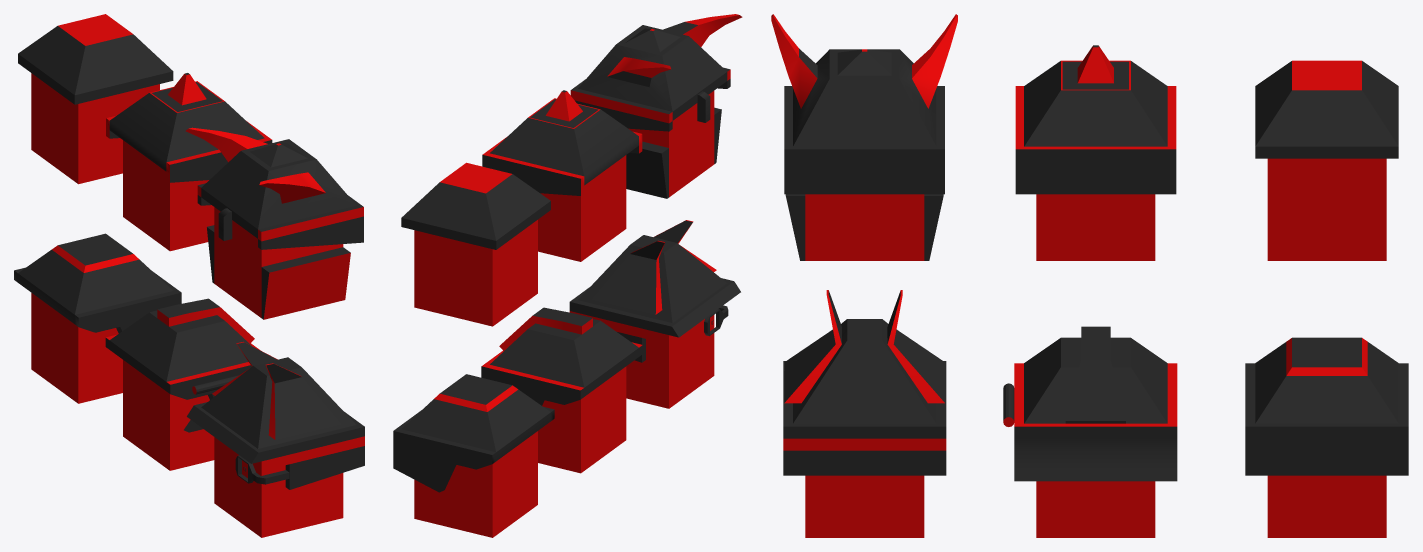
The model's file is enemy_GRP.fbx.
The picture shows the model from 3 angles, left to right: view 1: azimuth 30°, elevation 25°; view 2: azimuth 150°, elevation 25°; view 3: azimuth 270°, elevation 25°; orthographic projection. The views are drawn at different scales.
Visible parts, largest first — view 1: brute, heavy, infantry, scout, assault, swordman; view 2: infantry, scout, brute, heavy, assault, swordman; view 3: brute, heavy, assault, infantry, swordman, scout.
Part boxes in pixels (x1,y1,x2,y2): brute: (185, 127, 363, 319); heavy: (187, 341, 364, 537); infantry: (14, 233, 181, 403); scout: (18, 14, 173, 184); assault: (105, 298, 259, 470); swordman: (106, 73, 272, 251); infantry: (393, 374, 554, 537); scout: (401, 162, 550, 326); brute: (570, 14, 742, 198); heavy: (569, 220, 740, 408); assault: (481, 307, 642, 473); swordman: (482, 90, 642, 261); brute: (771, 14, 957, 260); heavy: (783, 290, 946, 537); assault: (1003, 326, 1177, 537); infantry: (1245, 337, 1408, 537); swordman: (1015, 45, 1176, 260); scout: (1255, 60, 1398, 260).
Size of the model in its own units: 5.42 by 15.59 by 19.3.
